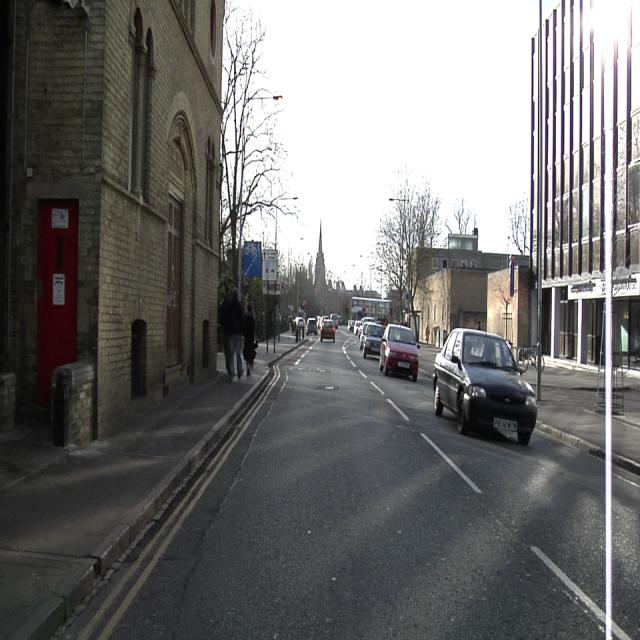Building: (0, 0, 224, 446), (530, 0, 640, 368), (414, 233, 530, 347)
Car: (432, 328, 536, 444), (380, 323, 419, 381), (360, 320, 385, 357), (320, 318, 340, 342), (306, 318, 316, 332)
Road: (55, 333, 604, 638)
Tree: (221, 7, 296, 287), (375, 173, 440, 322)
person: (244, 305, 256, 374)
